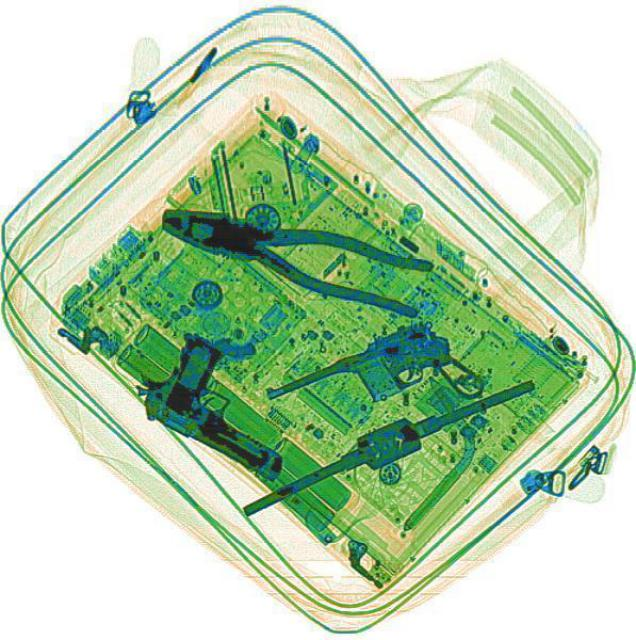Gun: (260, 305, 487, 473), (121, 320, 323, 484)
Pliers: (152, 188, 435, 318)
